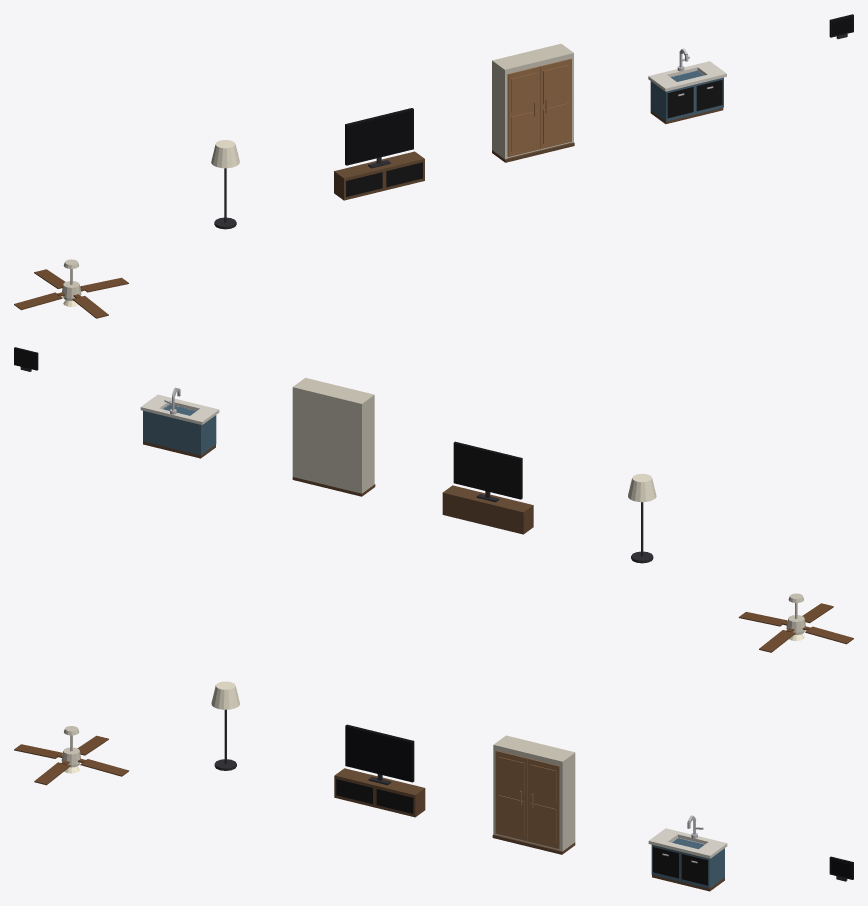
The model's file is HomeProps.glb.
The picture shows the model from 3 angles, top to bottom: view 1: azimuth 30°, elevation 25°; view 2: azimuth 150°, elevation 25°; view 3: azimuth 330°, elevation 25°; orthographic projection.
Parts seen in each view (by area): view 1: Closet_Body, Closet_DoorL, Closet_DoorR, TV_Screen, TV_Frame, TV_Wood, CeilingFan_Blades, KitchenSink_Frame, KitchenSink_Cabinet, KitchenSink_Counter, FloorLamp_Shade; view 2: Closet_Body, TV_Frame, TV_Wood, KitchenSink_Cabinet, CeilingFan_Blades, KitchenSink_Counter, FloorLamp_Shade; view 3: Closet_Body, Closet_DoorL, Closet_DoorR, TV_Screen, TV_Frame, TV_Wood, CeilingFan_Blades, KitchenSink_Frame, KitchenSink_Cabinet, KitchenSink_Counter, FloorLamp_Shade, CeilingFan_Body.
Part boxes in pixels (left/top/right/bottom): Closet_Body: left=492, top=43, right=573, bottom=159; Closet_DoorL: left=507, top=66, right=539, bottom=156; Closet_DoorR: left=539, top=59, right=571, bottom=149; TV_Screen: left=347, top=110, right=412, bottom=164; TV_Frame: left=345, top=108, right=422, bottom=196; TV_Wood: left=334, top=151, right=424, bottom=200; CeilingFan_Blades: left=14, top=269, right=128, bottom=318; KitchenSink_Frame: left=667, top=80, right=722, bottom=118; KitchenSink_Cabinet: left=650, top=70, right=723, bottom=121; KitchenSink_Counter: left=648, top=61, right=726, bottom=91; FloorLamp_Shade: left=211, top=140, right=239, bottom=168; Closet_Body: left=292, top=378, right=374, bottom=493; TV_Frame: left=453, top=441, right=522, bottom=499; TV_Wood: left=442, top=485, right=533, bottom=534; KitchenSink_Cabinet: left=143, top=404, right=216, bottom=455; CeilingFan_Blades: left=738, top=603, right=853, bottom=652; KitchenSink_Counter: left=140, top=394, right=219, bottom=424; FloorLamp_Shade: left=628, top=473, right=656, bottom=502; Closet_Body: left=493, top=735, right=575, bottom=851; Closet_DoorL: left=495, top=750, right=527, bottom=841; Closet_DoorR: left=527, top=758, right=559, bottom=848; TV_Screen: left=346, top=727, right=411, bottom=780; TV_Frame: left=336, top=724, right=414, bottom=813; TV_Wood: left=334, top=768, right=425, bottom=817; CeilingFan_Blades: left=14, top=735, right=129, bottom=785; KitchenSink_Frame: left=653, top=847, right=707, bottom=885; KitchenSink_Cabinet: left=651, top=838, right=724, bottom=888; KitchenSink_Counter: left=648, top=828, right=727, bottom=858; FloorLamp_Shade: left=211, top=681, right=239, bottom=709; CeilingFan_Body: left=61, top=726, right=81, bottom=767.
Size of the model in its own units: 86.8 by 13.3 by 11.2.
